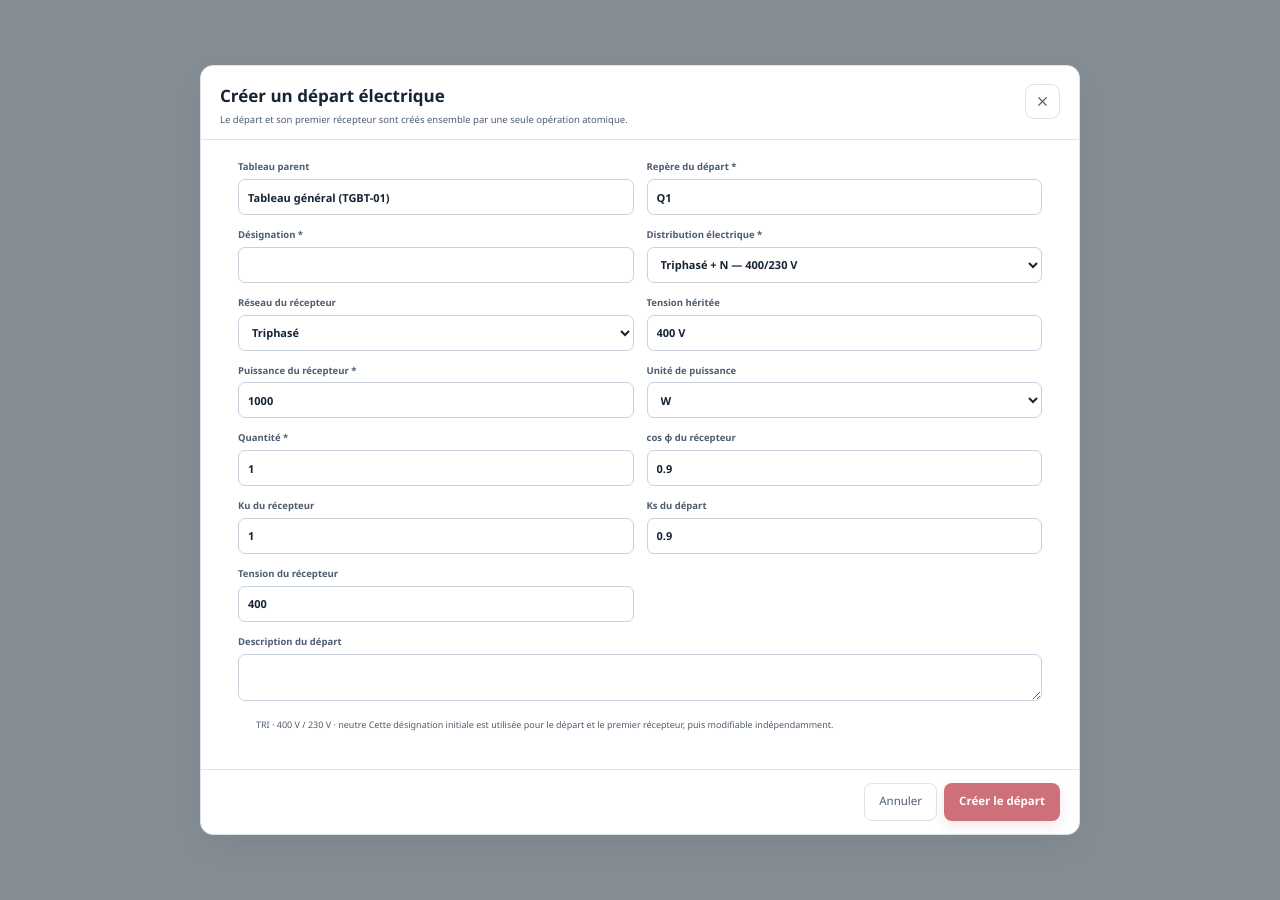
Test: FeederLoadDialog — suggestion de phase R5 › affiche et présélectionne la phase la moins chargée en MONO_N
The image size is (1280, 900).
Select "Monophasé + N — 230 V" in the dropdown with test id "feeder-load-distribution" at coordinates (844, 265), box [646,247,1042,283]
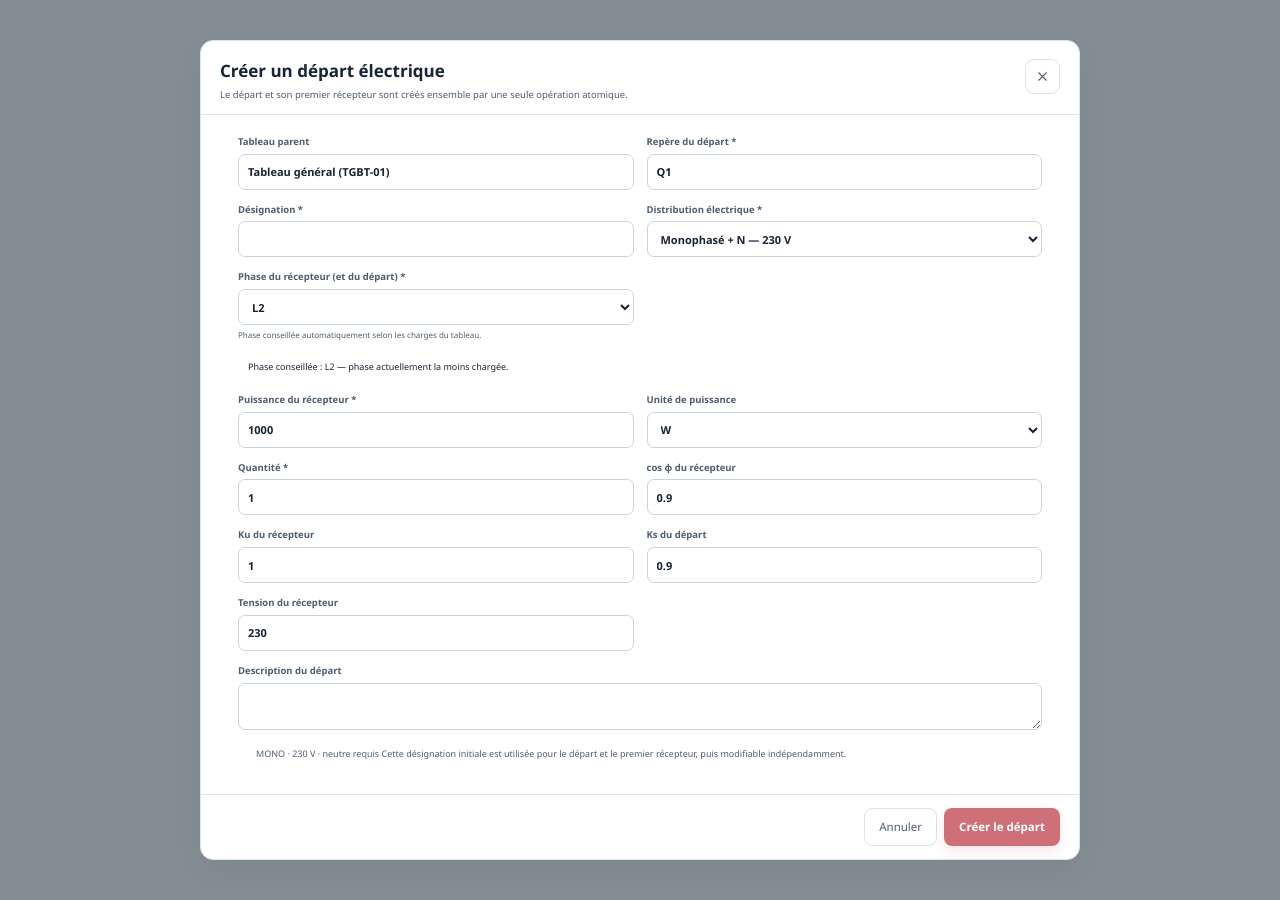
Expected: the dropdown with test id "feeder-load-phase" shows "L2", [238,289,634,325]
Expected: the text with test id "feeder-load-phase-suggestion" shows "Phase conseillée : L2", [248,360,508,373]
